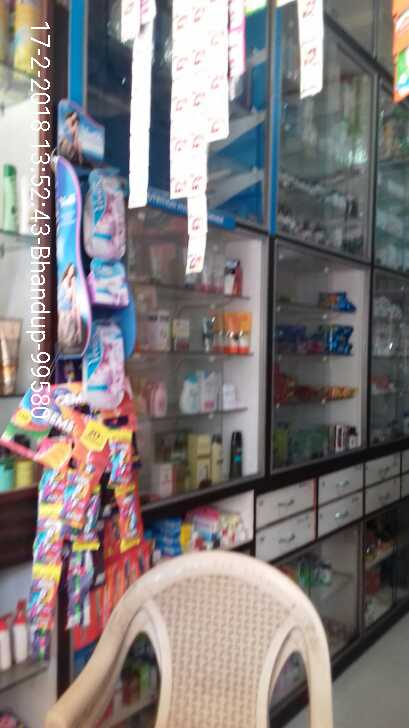beauty: (86, 171, 127, 256), (89, 327, 123, 405), (90, 257, 132, 304)
